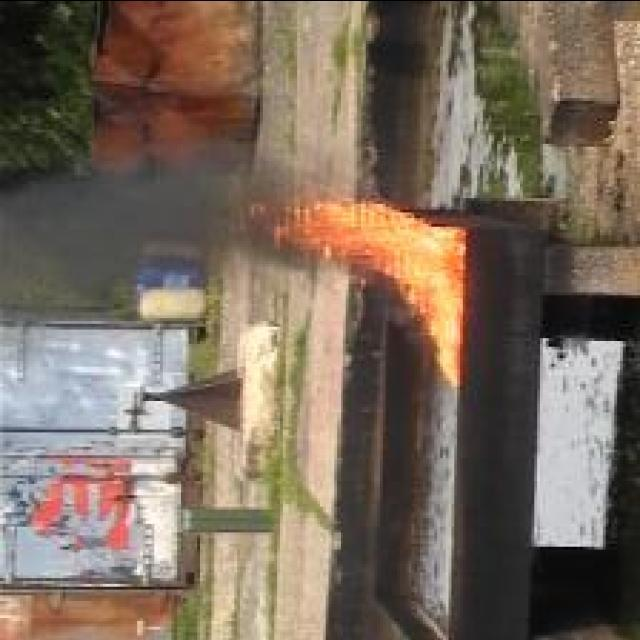Fire: (252, 198, 466, 386)
